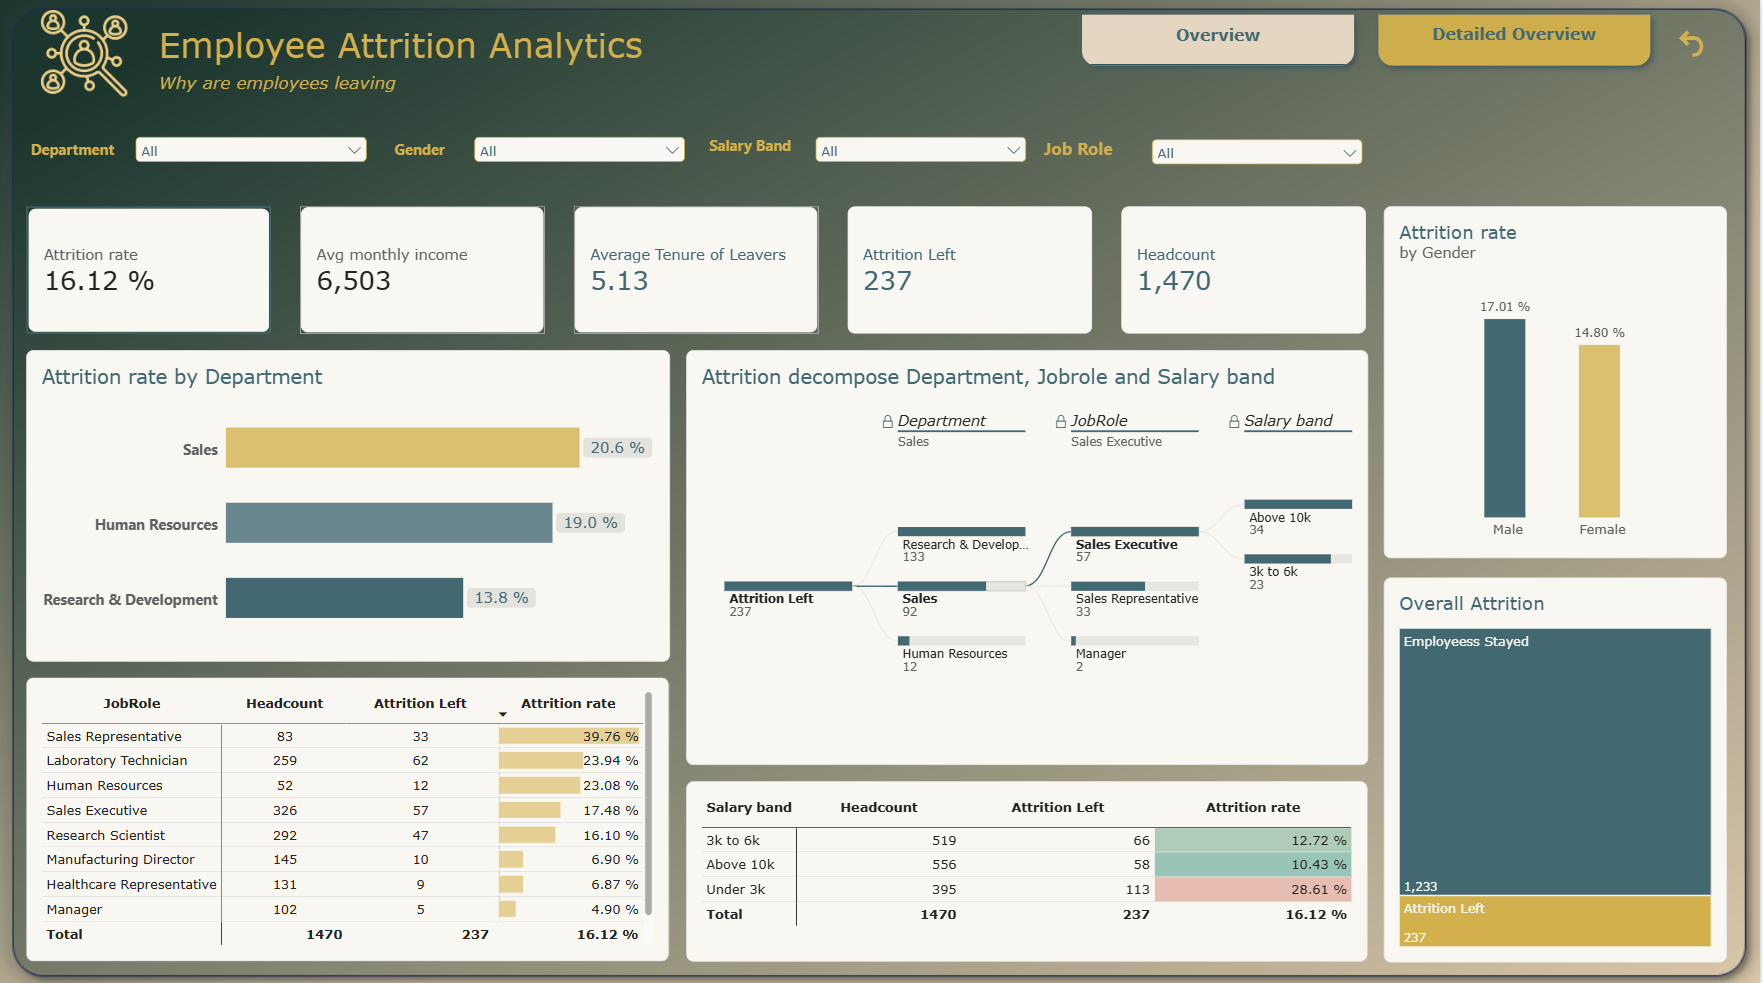

The dashboard page shown, as its layout file describes it:
{"tool":"powerbi","page":{"name":"Overview","canvas":[1920,1080],"ordinal":0},"visuals":[{"type":"group","id":"g1","title":"Group 1","box":[173.7,25.3,586.3,79.6],"z":0},{"type":"textbox","box":[173.7,25.3,586.1,63.1],"z":1000,"group":"g1"},{"type":"slicer","fields":{"Values":["HR_empl.JobRole"]},"box":[1251.5,147.8,239.2,33],"z":1000},{"type":"textbox","box":[173.7,77.9,379,25.2],"z":2000,"group":"g1"},{"type":"slicer","fields":{"Values":["HR_empl.Salary band"]},"box":[885.1,144.7,239.2,39.2],"z":2000},{"type":"slicer","fields":{"Values":["HR_empl.Gender"]},"box":[512.3,144.2,239.2,40.2],"z":3000},{"type":"actionButton","box":[1809.7,16.3,72.4,63.3],"z":4000},{"type":"cardVisual","fields":{"Data":["HR_empl.Attrition rate"]},"box":[29,224.4,267,139.3],"z":5000},{"type":"cardVisual","fields":{"Data":["HR_empl.Avg monthly income"]},"box":[327.1,224.4,267,139.3],"z":6000},{"type":"cardVisual","fields":{"Data":["HR_empl.Average Tenure of Leavers1"]},"box":[625.3,224.4,267.8,139.3],"z":7000},{"type":"cardVisual","fields":{"Data":["HR_empl.Attrition Left"]},"box":[924.3,224.4,267.8,139.3],"z":8000},{"type":"cardVisual","fields":{"Data":["HR_empl.Headcount1"]},"box":[1223.3,224.4,267.8,139.3],"z":9000},{"type":"treemap","title":"Overall Attrition","fields":{"Values":["HR_empl.Employeess Stayed1","HR_empl.Attrition Left"]},"box":[1509.3,629.8,374.6,419.8],"z":10000},{"type":"clusteredBarChart","fields":{"Category":["HR_empl.Department"],"Y":["HR_empl.Attrition rate"]},"box":[29.1,382.3,702.6,340.4],"z":11000},{"type":"decompositionTreeVisual","title":"Attrition decompose Department, Jobrole and Salary band","fields":{"Analyze":["HR_empl.Attrition Left"],"ExplainBy":["HR_empl.Department","HR_empl.JobRole","HR_empl.Salary band"]},"box":[749.2,381.8,743.8,452.4],"z":12000},{"type":"pivotTable","fields":{"Rows":["HR_empl.JobRole"],"Values":["HR_empl.Headcount","HR_empl.Attrition Left","HR_empl.Attrition rate"]},"box":[29.1,739,700.8,309.4],"z":13000},{"type":"pivotTable","fields":{"Rows":["HR_empl.Salary band"],"Values":["HR_empl.Headcount1","HR_empl.Attrition Left1","HR_empl.Attrition rate"]},"box":[749.1,852.2,743.6,196.9],"z":14000},{"type":"slicer","fields":{"Values":["HR_empl.Department"]},"box":[142.6,144.2,261.9,40.2],"z":15000},{"type":"clusteredColumnChart","fields":{"Category":["HR_empl.Gender"],"Y":["HR_empl.Attrition rate1"]},"box":[1509.3,224.4,374.6,383.6],"z":16000},{"type":"pageNavigator","box":[1170.9,7.2,638.8,74.2],"z":17000},{"type":"image","box":[29,10.9,126.7,94.1],"z":18000},{"type":"textbox","box":[1139.1,148,97.7,32.6],"z":19000},{"type":"textbox","box":[766.3,147.8,104.1,33],"z":20000},{"type":"textbox","box":[419.2,151.4,78.4,25.8],"z":21000},{"type":"textbox","box":[29.9,151.4,97.9,25.8],"z":22000}]}

Visuals, with their boxes in screenshot pixels (x1, y1, x2, y2), scaled from the page's 1920x1080 canvas onto the 1762x983 screenshot:
"Group 1" group: [left=159, top=23, right=697, bottom=95]
textbox: [left=159, top=23, right=697, bottom=80]
slicer - HR_empl.JobRole: [left=1149, top=135, right=1368, bottom=165]
textbox: [left=159, top=71, right=507, bottom=94]
slicer - HR_empl.Salary band: [left=812, top=132, right=1032, bottom=167]
slicer - HR_empl.Gender: [left=470, top=131, right=690, bottom=168]
actionButton: [left=1661, top=15, right=1727, bottom=72]
cardVisual - HR_empl.Attrition rate: [left=27, top=204, right=272, bottom=331]
cardVisual - HR_empl.Avg monthly income: [left=300, top=204, right=545, bottom=331]
cardVisual - HR_empl.Average Tenure of Leavers1: [left=574, top=204, right=820, bottom=331]
cardVisual - HR_empl.Attrition Left: [left=848, top=204, right=1094, bottom=331]
cardVisual - HR_empl.Headcount1: [left=1123, top=204, right=1368, bottom=331]
"Overall Attrition" treemap: [left=1385, top=573, right=1729, bottom=955]
clusteredBarChart - HR_empl.Department x HR_empl.Attrition rate: [left=27, top=348, right=671, bottom=658]
"Attrition decompose Department, Jobrole and Salary band" decompositionTreeVisual: [left=688, top=348, right=1370, bottom=759]
pivotTable - HR_empl.JobRole x HR_empl.Headcount: [left=27, top=673, right=670, bottom=954]
pivotTable - HR_empl.Salary band x HR_empl.Headcount1: [left=687, top=776, right=1370, bottom=955]
slicer - HR_empl.Department: [left=131, top=131, right=371, bottom=168]
clusteredColumnChart - HR_empl.Gender x HR_empl.Attrition rate1: [left=1385, top=204, right=1729, bottom=553]
pageNavigator: [left=1075, top=7, right=1661, bottom=74]
image: [left=27, top=10, right=143, bottom=96]
textbox: [left=1045, top=135, right=1135, bottom=164]
textbox: [left=703, top=135, right=799, bottom=165]
textbox: [left=385, top=138, right=457, bottom=161]
textbox: [left=27, top=138, right=117, bottom=161]
